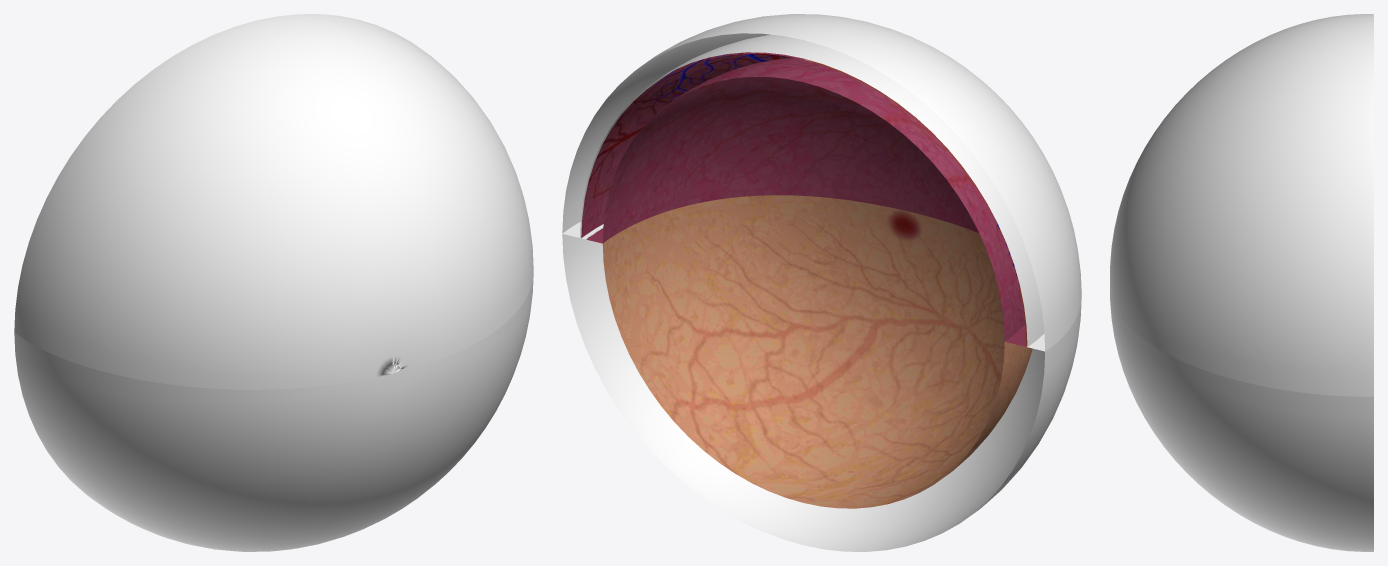
Rendered from posterior_segment.dae.
The picture shows the model from 3 angles, left to right: view 1: azimuth 30°, elevation 25°; view 2: azimuth 150°, elevation 25°; view 3: azimuth 270°, elevation 25°; orthographic projection. The views are drawn at different scales.
Parts seen in each view (by area): view 1: 1 ARTERIA interior; view 2: 1 ARTERIA interior; view 3: 1 ARTERIA interior.
Boxes of the visible parts, box(x1,y1,x2,y2) form: 1 ARTERIA interior: box(14, 14, 533, 551); 1 ARTERIA interior: box(562, 14, 1081, 551); 1 ARTERIA interior: box(1110, 14, 1373, 551).
Bounding box in the file's own units: 23.03 × 11.3 × 23.03.
Materials: 8 (7 with a texture image).
